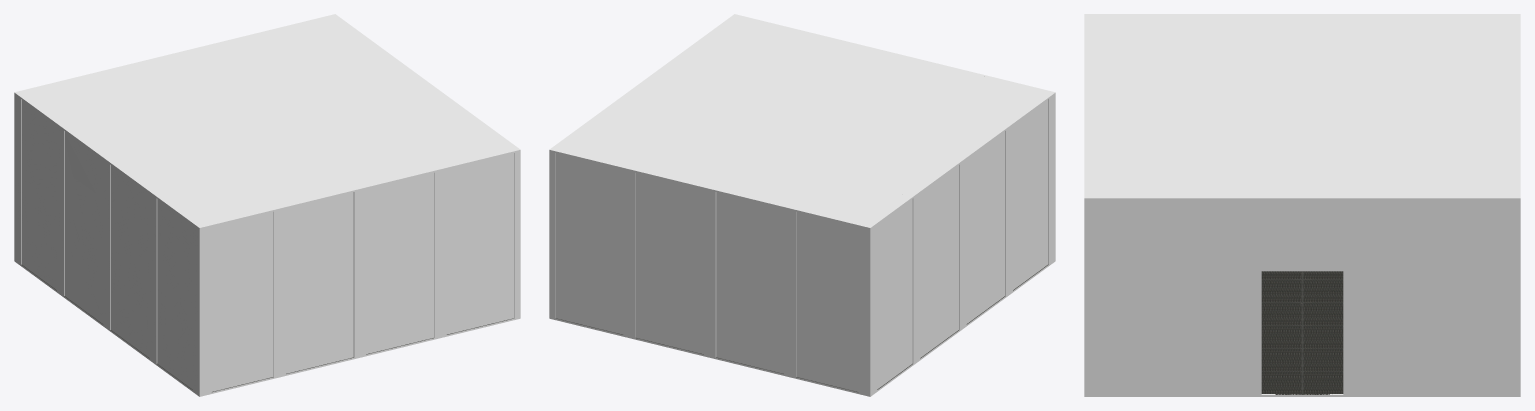
Rendered from CZRoomGeneric.fbx.
3 renders of one model, left to right at view 1: azimuth 30°, elevation 25°; view 2: azimuth 150°, elevation 25°; view 3: azimuth 270°, elevation 25°, orthographic. The views are drawn at different scales.
Parts seen in each view (by area): view 1: node_id23, node_id32, node_id35, node_id41 (×11), node_id29, node_id20 (×2); view 2: node_id23, node_id29, node_id38, node_id41 (×11), node_id32, node_id20 (×2); view 3: node_id23, node_id26, node_id20 (×2), node_id41, node_id32, node_id29.
Boxes of the visible parts, bbox=[...] form: node_id23: bbox=[14, 15, 520, 229]; node_id32: bbox=[108, 160, 359, 391]; node_id35: bbox=[359, 150, 514, 353]; node_id41 (×11): bbox=[14, 89, 520, 395]; node_id29: bbox=[18, 53, 175, 323]; node_id20 (×2): bbox=[14, 260, 520, 396]; node_id23: bbox=[555, 15, 1054, 229]; node_id29: bbox=[710, 160, 961, 391]; node_id38: bbox=[555, 150, 710, 353]; node_id41 (×11): bbox=[549, 89, 1055, 395]; node_id32: bbox=[894, 53, 1055, 323]; node_id20 (×2): bbox=[549, 261, 1055, 396]; node_id23: bbox=[1084, 14, 1520, 200]; node_id26: bbox=[1084, 197, 1520, 395]; node_id20 (×2): bbox=[1084, 271, 1520, 396]; node_id41: bbox=[1504, 195, 1520, 395]; node_id32: bbox=[1085, 14, 1302, 106]; node_id29: bbox=[1302, 14, 1519, 106].
Bounding box in the file's own units: 0.512 × 0.2573 × 0.512.
Materials: 30 (7 with a texture image).
